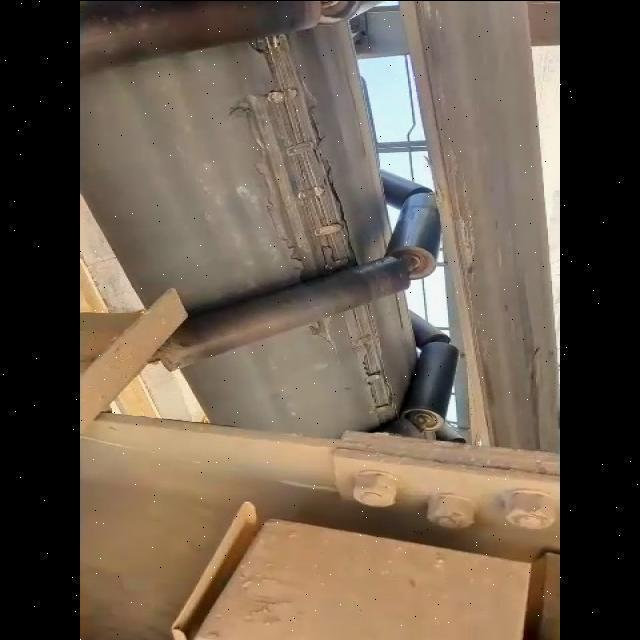Tear: (232, 31, 360, 273), (334, 300, 406, 423)
